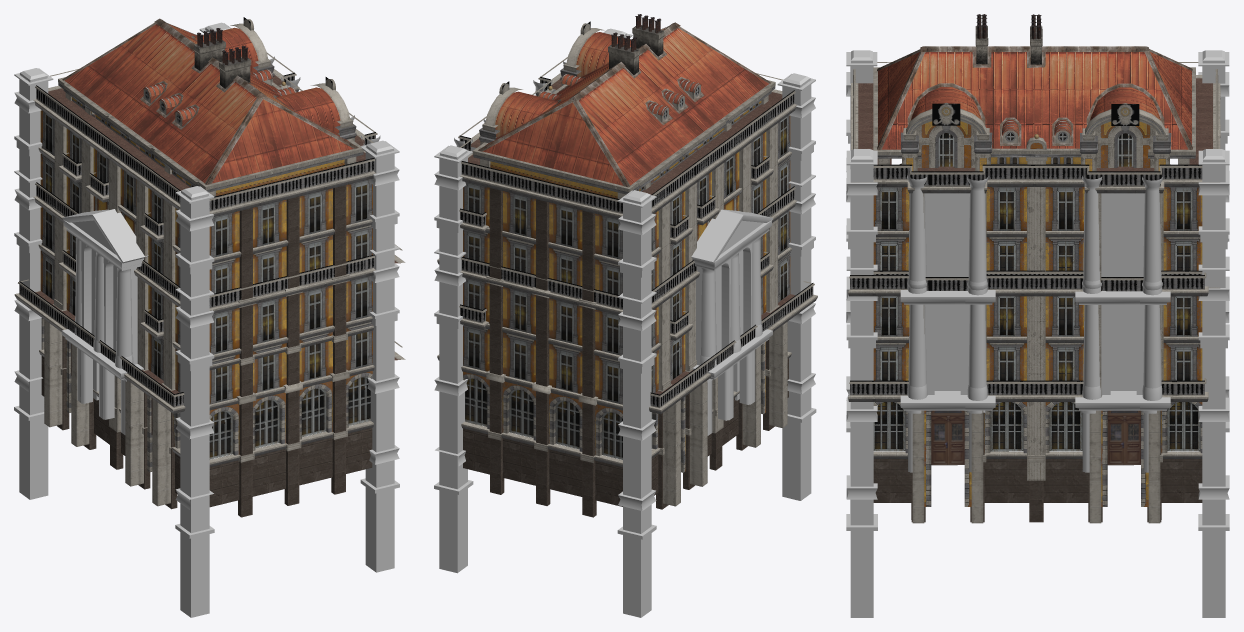
Rendered from tier4.gltf.
3 views of the same model, side by side, from view 1: azimuth 30°, elevation 25°; view 2: azimuth 150°, elevation 25°; view 3: azimuth 270°, elevation 25° (orthographic). The views are drawn at different scales.
Parts seen in each view (by area): view 1: _lod0; view 2: _lod0; view 3: _lod0.
Part boxes in pixels (x1,y1,x2,y2): _lod0: (14,17,405,617); _lod0: (434,14,817,617); _lod0: (846,14,1229,617).
Size of the model in its own units: 2.4 by 4.76 by 3.04.
